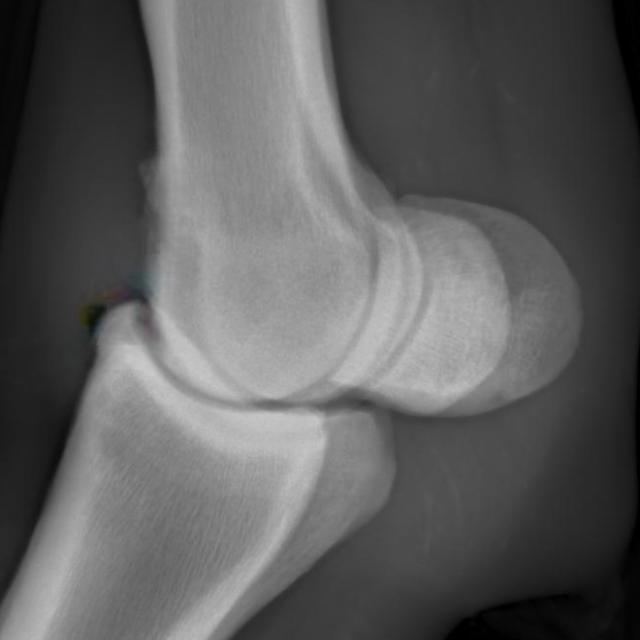bone remodeling: (72, 86, 227, 238), (56, 252, 192, 415)
